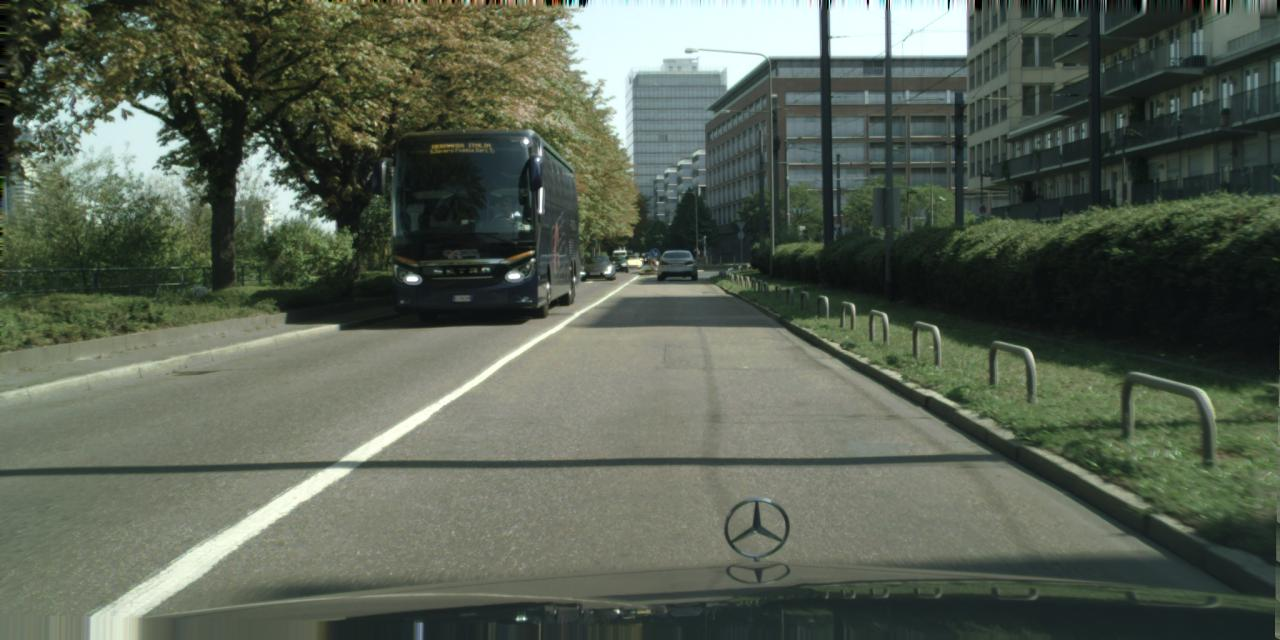ped: (695, 247, 700, 260)
